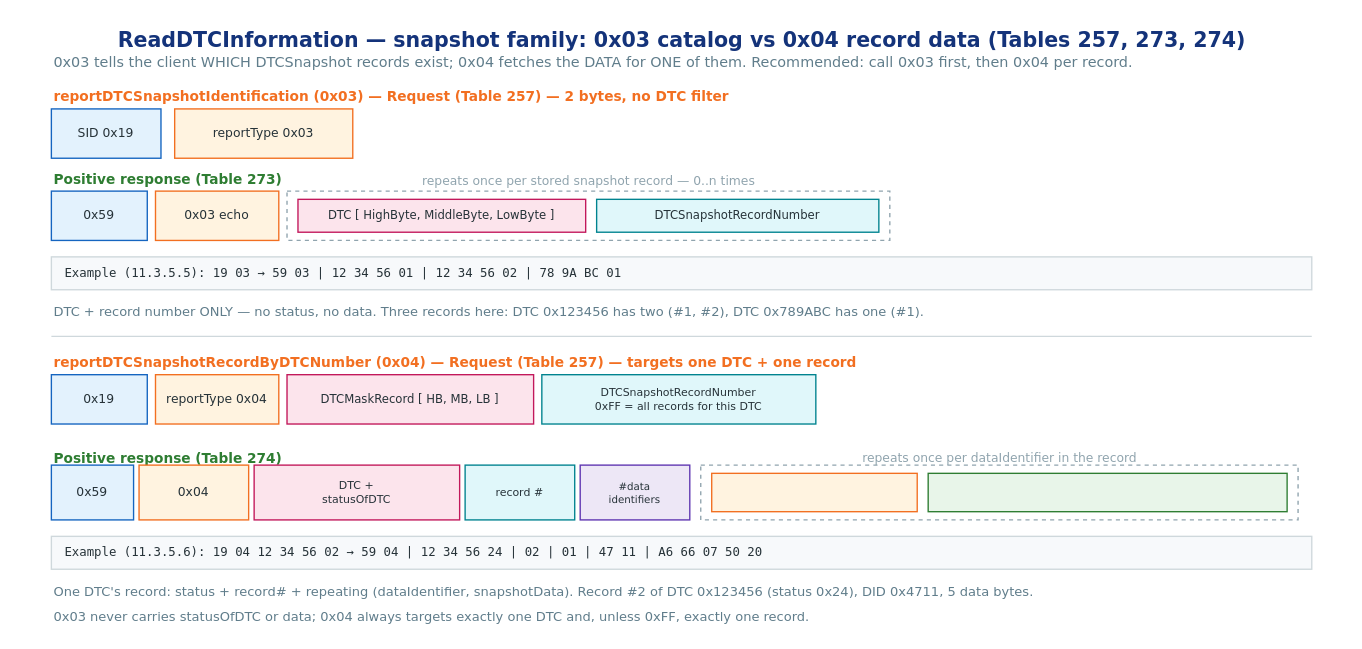
The diagram is 1362 pixels wide and 649 high, and some of its shapes have lost their labels. The centre of each missing label's shape, as x and y in pixels:
"dataIdentifier" goes at point 813,492.
"snapshotData bytes" goes at point 1107,492.
